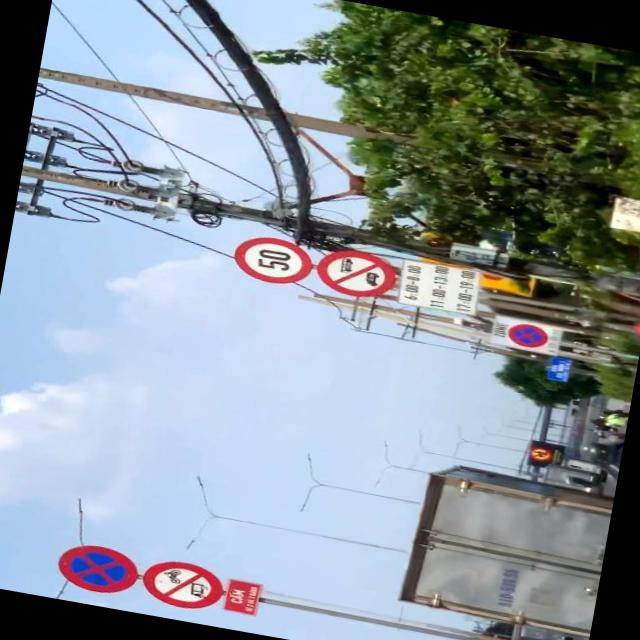P-104: (138, 553, 228, 613)
P-127: (228, 230, 314, 287)
P-130: (54, 538, 140, 596)
